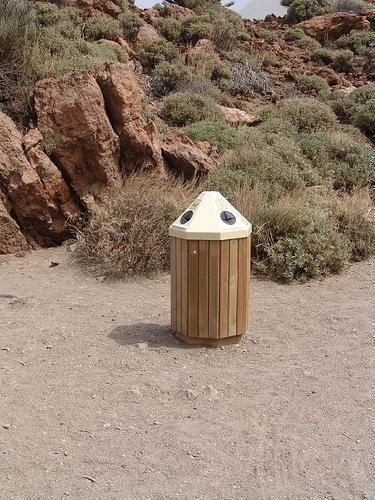Bote de Basura: (162, 193, 251, 343)
